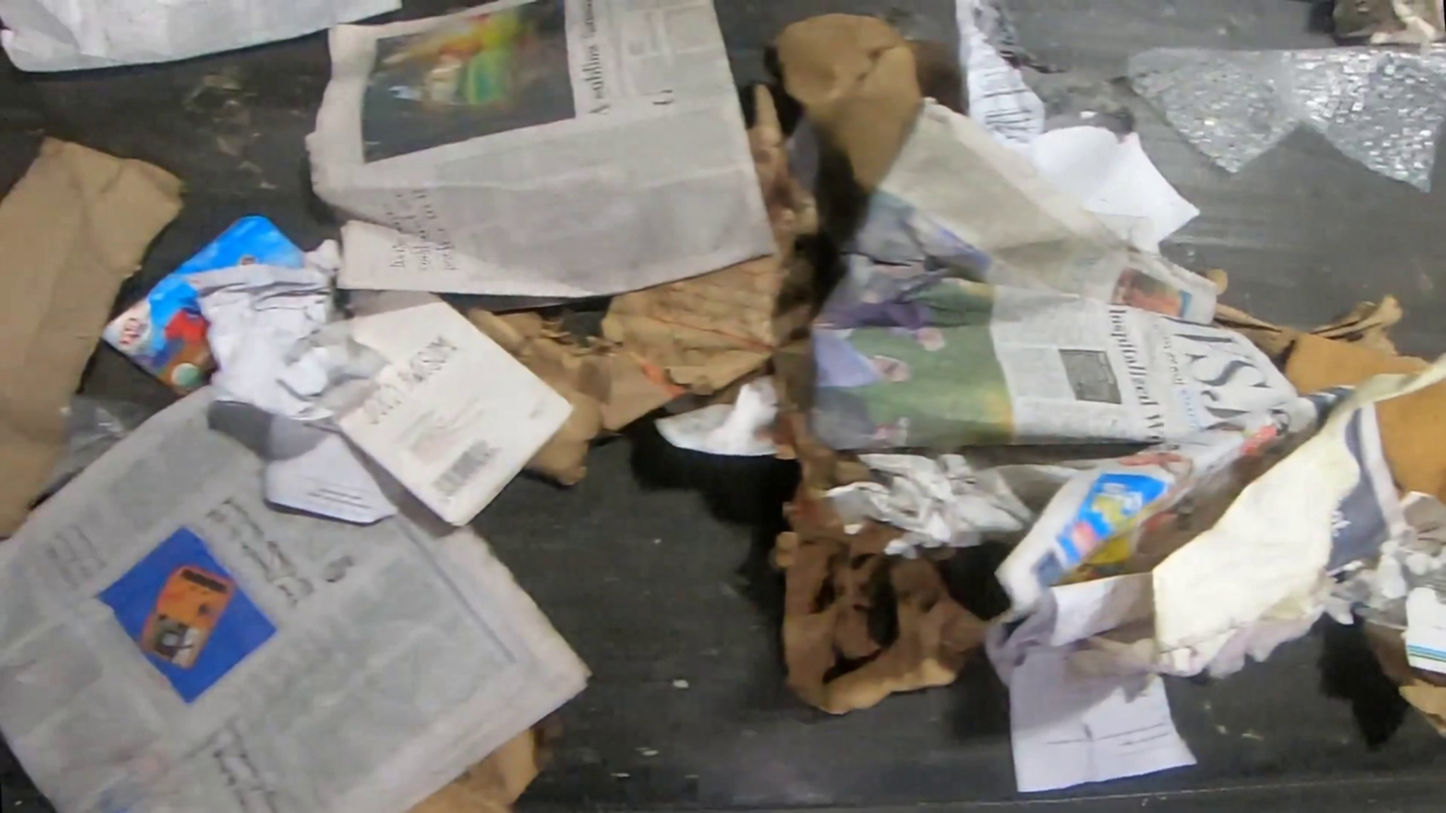cardboard: (1065, 349, 1446, 684), (748, 330, 989, 720), (0, 132, 191, 544), (596, 80, 828, 408), (301, 288, 581, 529), (458, 301, 697, 490), (100, 212, 308, 400), (765, 8, 925, 200), (1212, 293, 1434, 395), (404, 720, 546, 813), (1363, 622, 1446, 740), (1375, 374, 1446, 511), (1401, 586, 1446, 676)
plastic: (1121, 42, 1446, 200), (36, 391, 154, 501)
